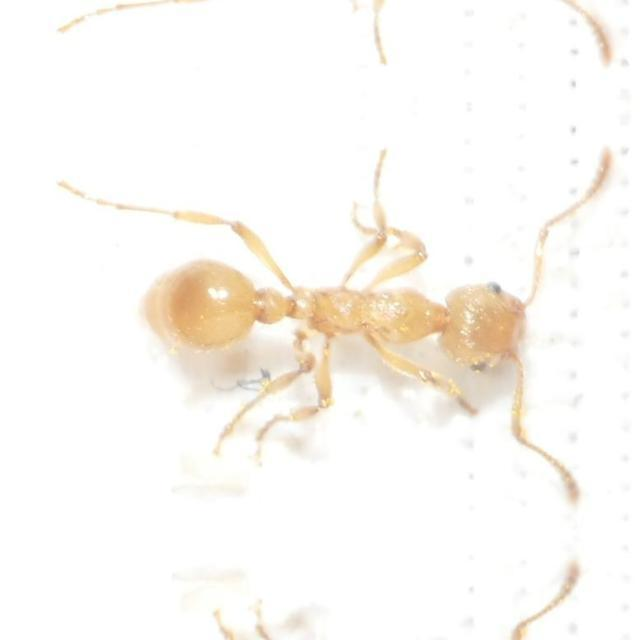Myrmica: (170, 200, 532, 434)
